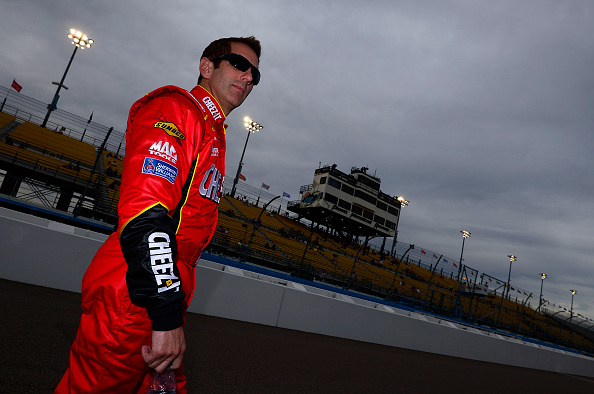em pe: (29, 31, 271, 394)
